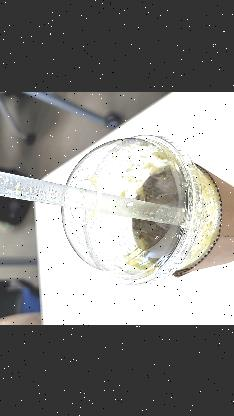Others: (60, 132, 234, 290), (61, 130, 200, 289), (0, 164, 187, 228)
